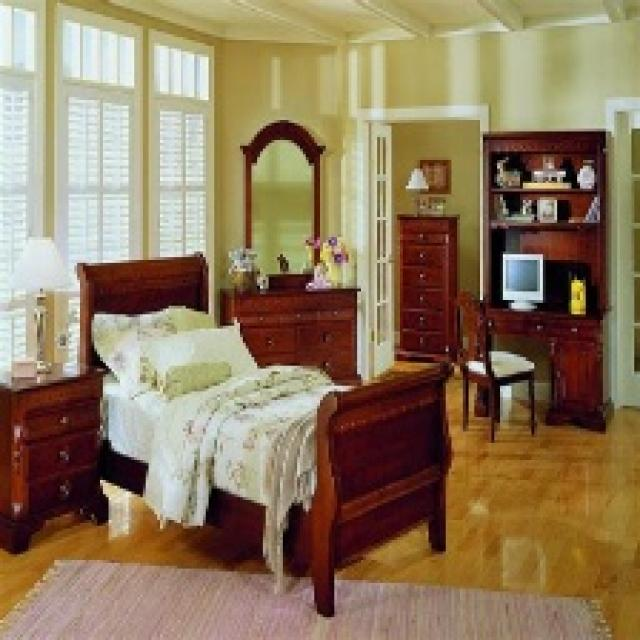Bed: (74, 249, 452, 617)
